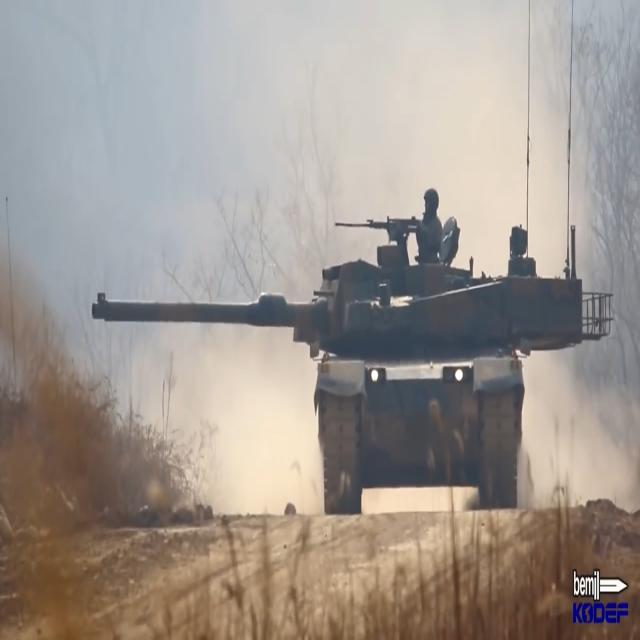korea tank: (90, 189, 612, 516)
